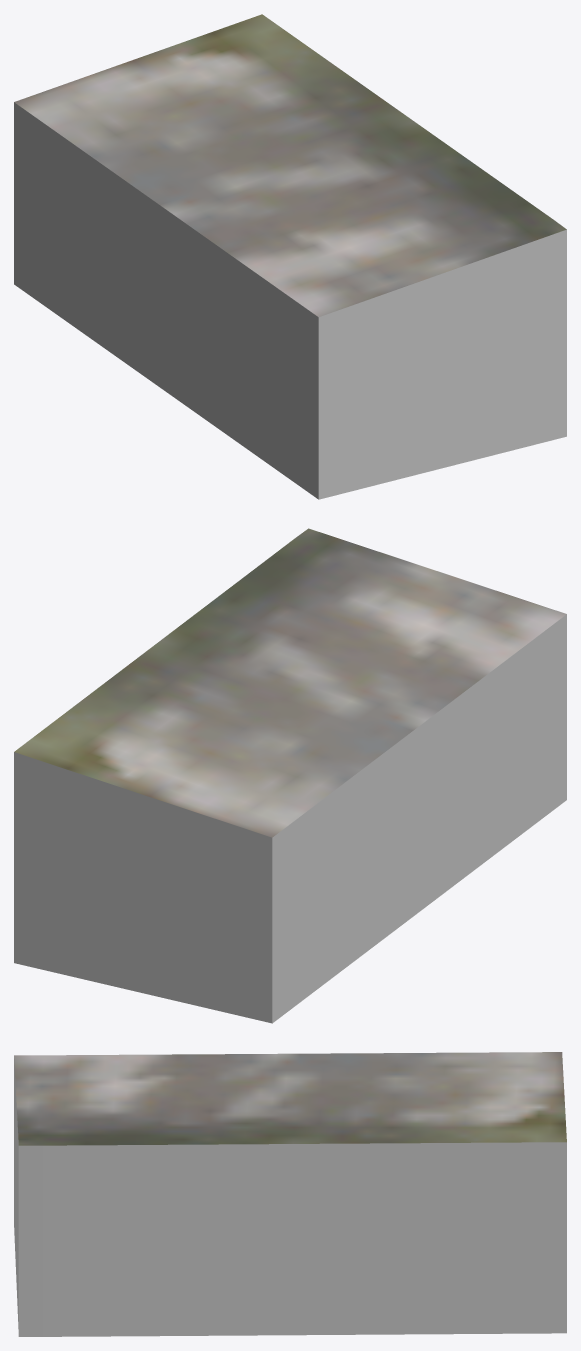
The model's file is DEBW_0010007Tx88.gltf.
The picture shows the model from 3 angles, top to bottom: view 1: azimuth 30°, elevation 25°; view 2: azimuth 150°, elevation 25°; view 3: azimuth 270°, elevation 25°; orthographic projection. The views are drawn at different scales.
Parts seen in each view (by area): view 1: Z_UP; view 2: Z_UP; view 3: Z_UP.
Boxes of the visible parts, x1,y1,x2,y2 form: Z_UP: (14,14,566,499); Z_UP: (14,528,566,1023); Z_UP: (14,1052,566,1336).
Size of the model in its own units: 4.58 by 3.5 by 9.18.
Materials: 2 (1 with a texture image).
